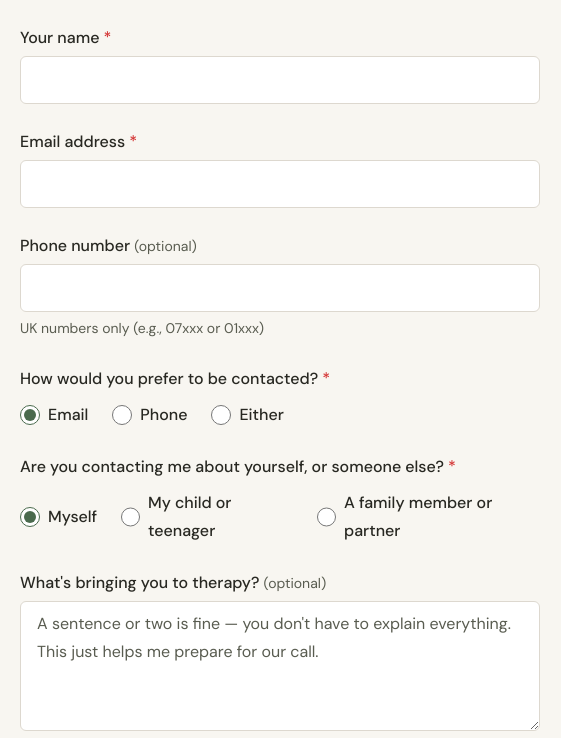
it: ContactForm Component › Loading State › shows loading state during submission
// Fill with valid data
In the field labelled "Your name *": (280, 80) [20,56,540,104], type "John Doe"
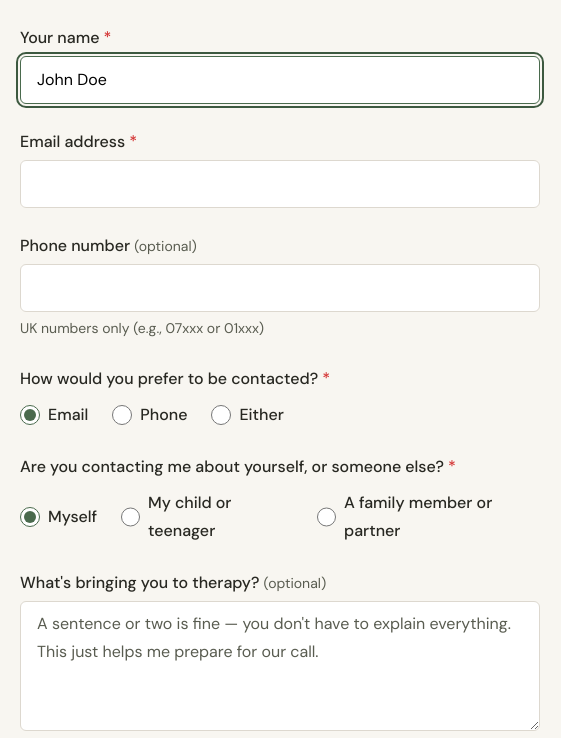
In the field labelled "Email address *": (280, 184) [20,160,540,208], type "john@example.com"
(page scrolled)
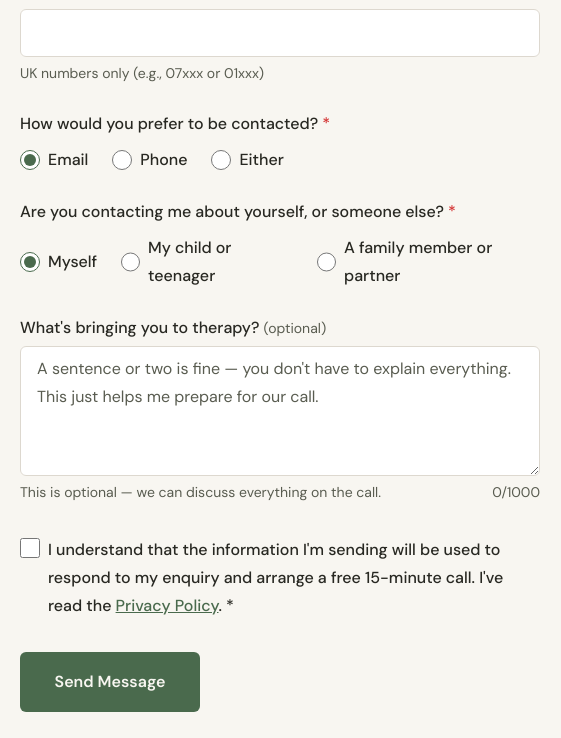
Click the checkbox: (30, 548) [20,538,40,558]
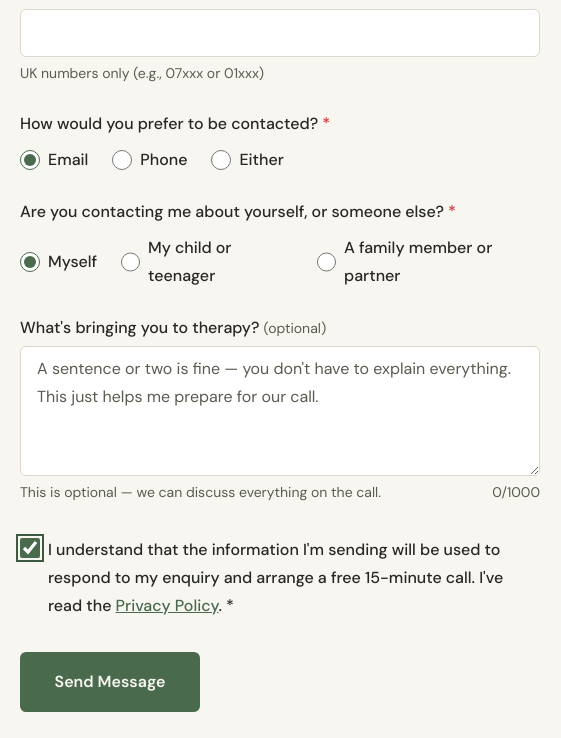
Click the button "Send Message": (110, 682) [20,652,200,712]
(page scrolled)
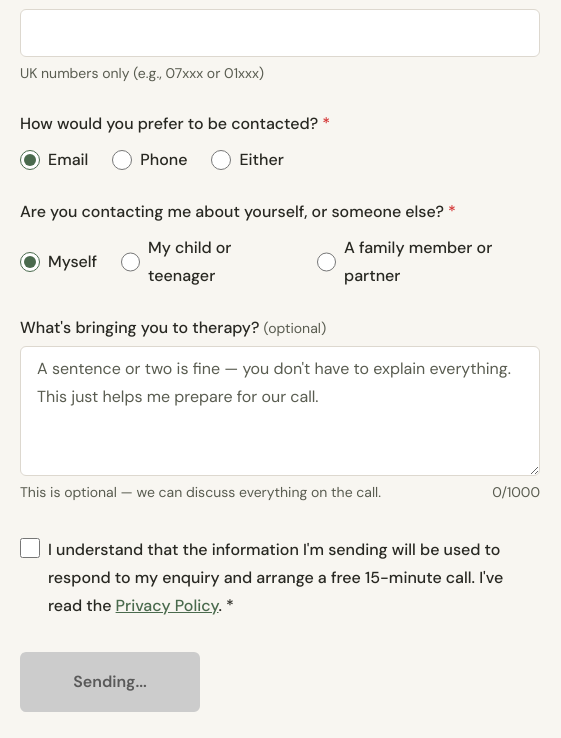
Expected: the button "Sending..." is disabled, [20,652,200,712]
